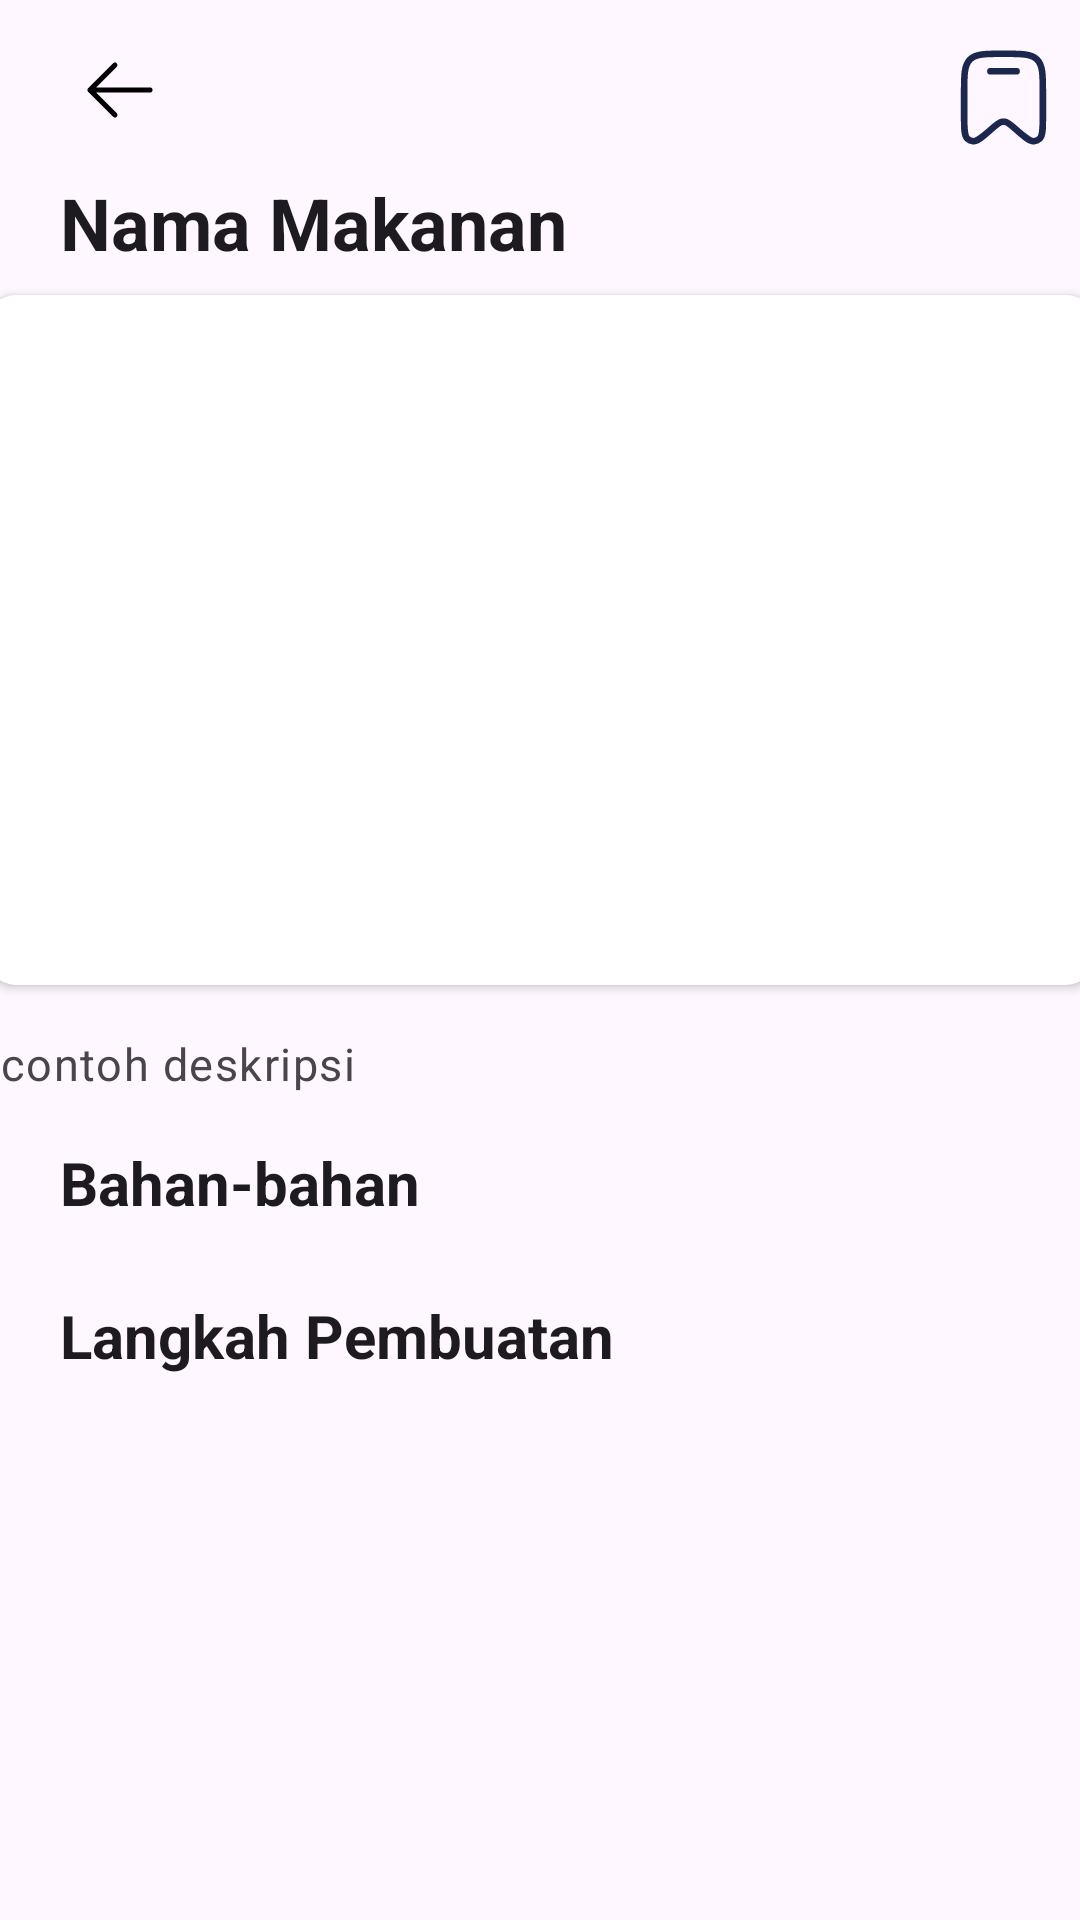

Icon click points for this 1080w x 1920h phone screenshot, format point (x, y):
back button: point (120, 90)
save recipe: point (1003, 97)
